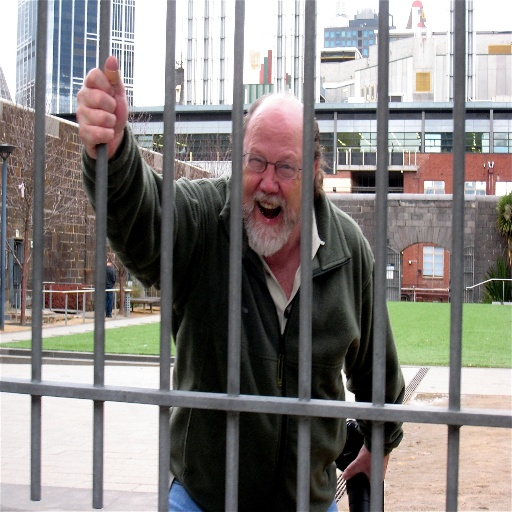hand: (67, 52, 131, 151), (342, 444, 390, 486)
